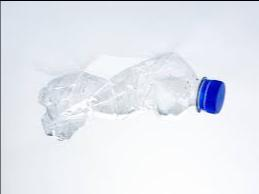Plastic: (33, 46, 227, 142)
